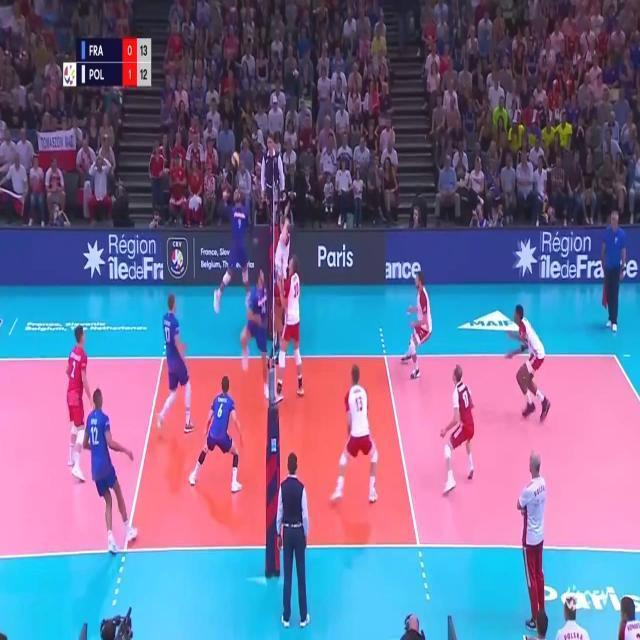volleyball: (230, 152, 240, 168)
